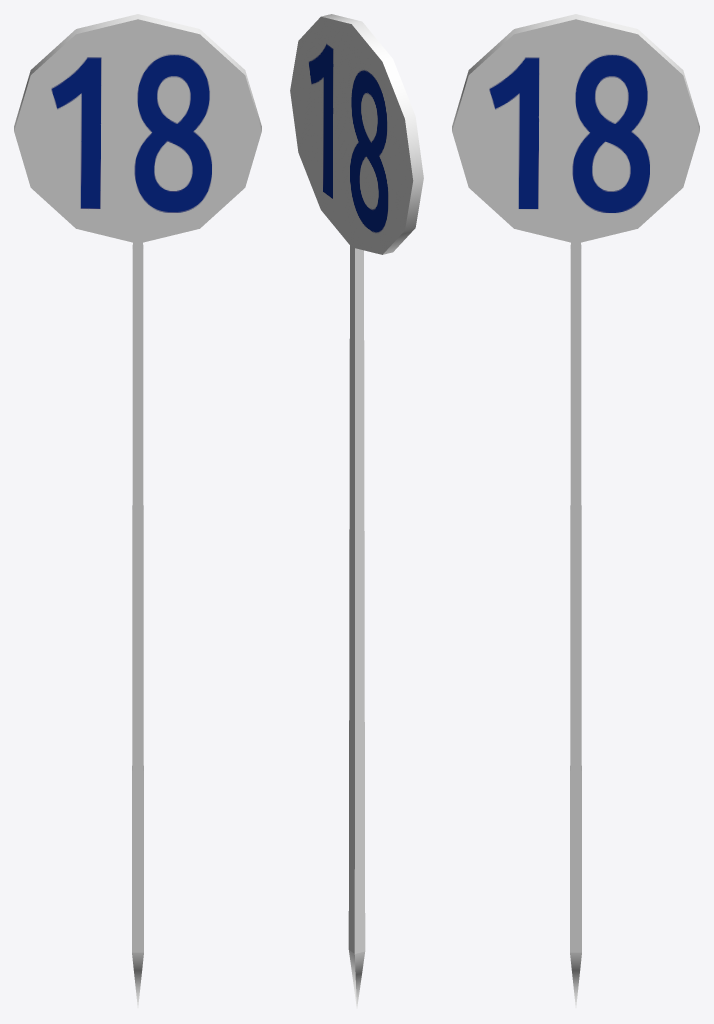
File: Marker_Shot_Put_18.FBX
3 renders of one model, left to right at view 1: azimuth 90°, elevation 25°; view 2: azimuth 210°, elevation 25°; view 3: azimuth 270°, elevation 25°, orthographic.
Visible parts, largest first — view 1: Marker_Shot_Put_18; view 2: Marker_Shot_Put_18; view 3: Marker_Shot_Put_18.
Part boxes in pixels (<box>): Marker_Shot_Put_18: <box>14,14,261,1007</box>; Marker_Shot_Put_18: <box>290,14,423,1008</box>; Marker_Shot_Put_18: <box>452,14,699,1007</box>.
Size of the model in its own units: 0.1115 by 9.84 by 2.22.
